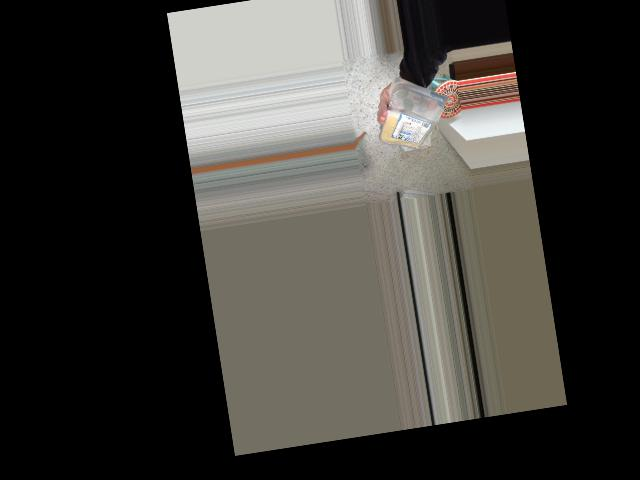cheese: (380, 75, 456, 158)
